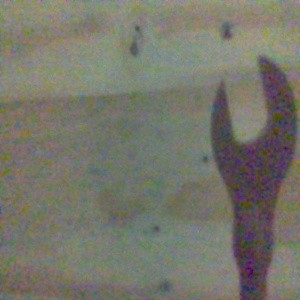spanner: (209, 52, 298, 300)
